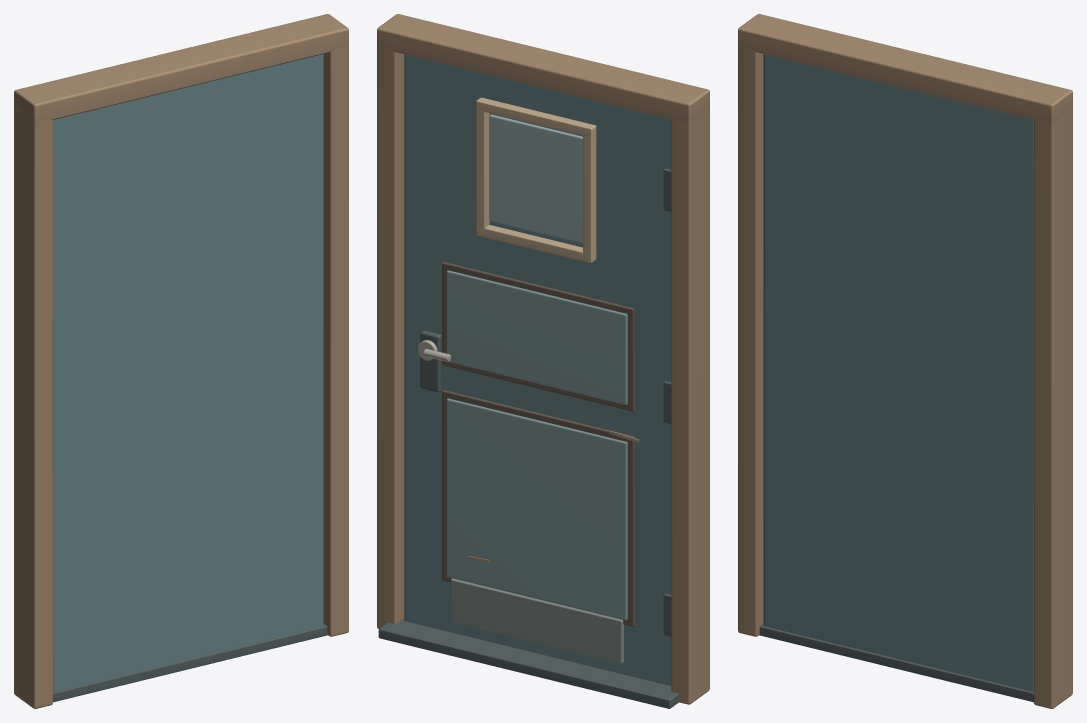
File: classroom_door_assembly.glb
The picture shows the model from 3 angles, left to right: view 1: azimuth 30°, elevation 25°; view 2: azimuth 150°, elevation 25°; view 3: azimuth 330°, elevation 25°; orthographic projection.
Parts seen in each view (by area): view 1: Door_leaf, Door_frame_left, Door_frame_right, Door_frame_head, Door_threshold; view 2: Door_leaf, Door_panel_inset, Door_frame_left, Door_panel_inset.001, Door_frame_right, Door_frame_head, Door_vision_glass, Door_kick_plate, Door_threshold, Door_panel_shadow, Door_panel_shadow.001, Door_vision_glass_rail.001 (+4 smaller); view 3: Door_leaf, Door_frame_right, Door_frame_left, Door_frame_head, Door_threshold.
Boxes of the visible parts, <box> form: Door_leaf: <box>53,54,323,691</box>; Door_frame_left: <box>14,109,52,708</box>; Door_frame_right: <box>323,38,348,636</box>; Door_frame_head: <box>14,14,348,122</box>; Door_threshold: <box>53,624,327,702</box>; Door_leaf: <box>404,54,671,685</box>; Door_panel_inset: <box>446,398,627,620</box>; Door_frame_left: <box>671,102,709,704</box>; Door_panel_inset.001: <box>446,270,627,404</box>; Door_frame_right: <box>377,38,404,628</box>; Door_frame_head: <box>377,14,709,122</box>; Door_vision_glass: <box>489,114,582,243</box>; Door_kick_plate: <box>450,578,623,663</box>; Door_threshold: <box>378,618,678,708</box>; Door_panel_shadow: <box>442,390,634,626</box>; Door_panel_shadow.001: <box>442,262,634,411</box>; Door_vision_glass_rail.001: <box>476,97,596,136</box>; Door_leaf: <box>763,54,1033,691</box>; Door_frame_right: <box>1034,100,1072,708</box>; Door_frame_left: <box>738,41,763,636</box>; Door_frame_head: <box>738,14,1072,122</box>; Door_threshold: <box>759,624,1033,702</box>.
Bounding box in the file's own units: 1.21 × 2.21 × 0.199.
